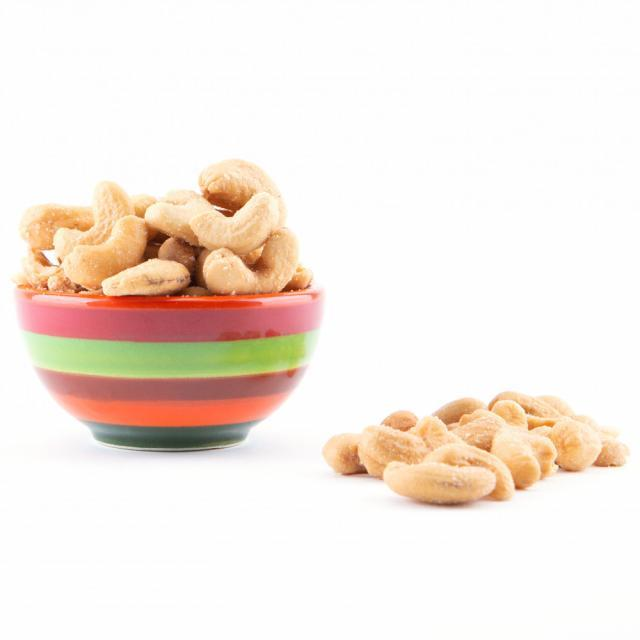Frutta secca: (15, 157, 327, 310), (330, 393, 632, 513)
